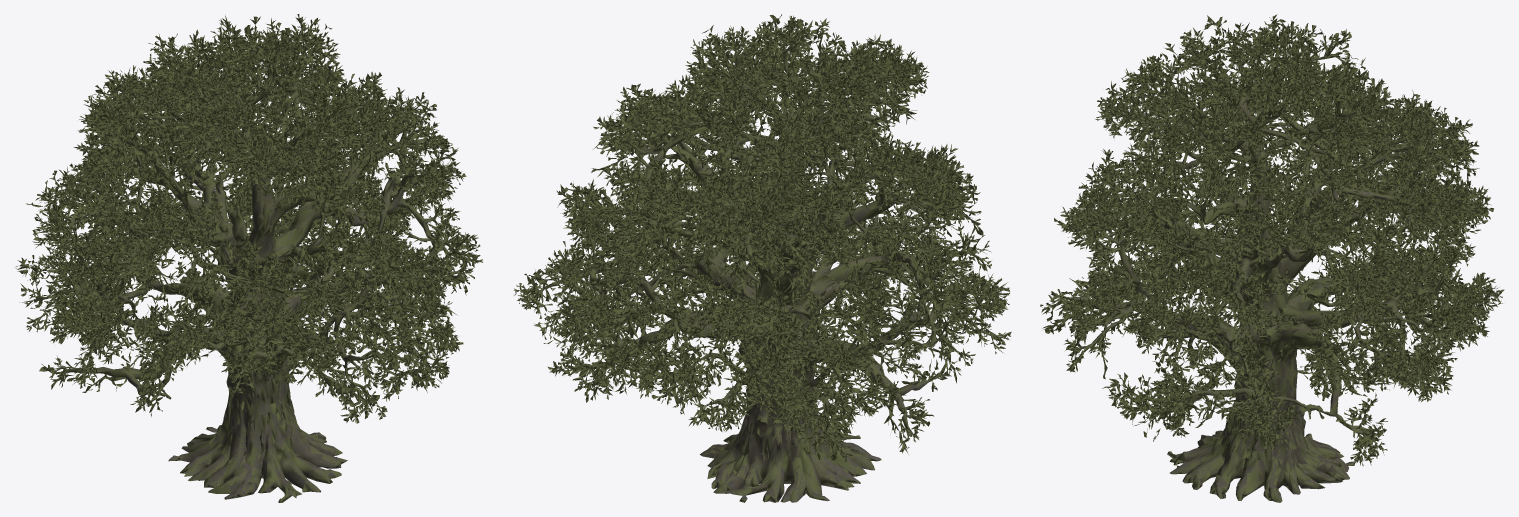
The model's file is tree_oak.glb.
3 views of the same model, side by side, from view 1: azimuth 30°, elevation 25°; view 2: azimuth 150°, elevation 25°; view 3: azimuth 270°, elevation 25° (orthographic). The views are drawn at different scales.
Visible parts, largest first — view 1: tree_oak; view 2: tree_oak; view 3: tree_oak.
Part boxes in pixels (left/top/right/bottom): tree_oak: left=15, top=14, right=482, bottom=502; tree_oak: left=513, top=14, right=1011, bottom=502; tree_oak: left=1040, top=14, right=1504, bottom=502.
Bounding box in the file's own units: 183 × 190 × 184.
1 material, 1 textured.
